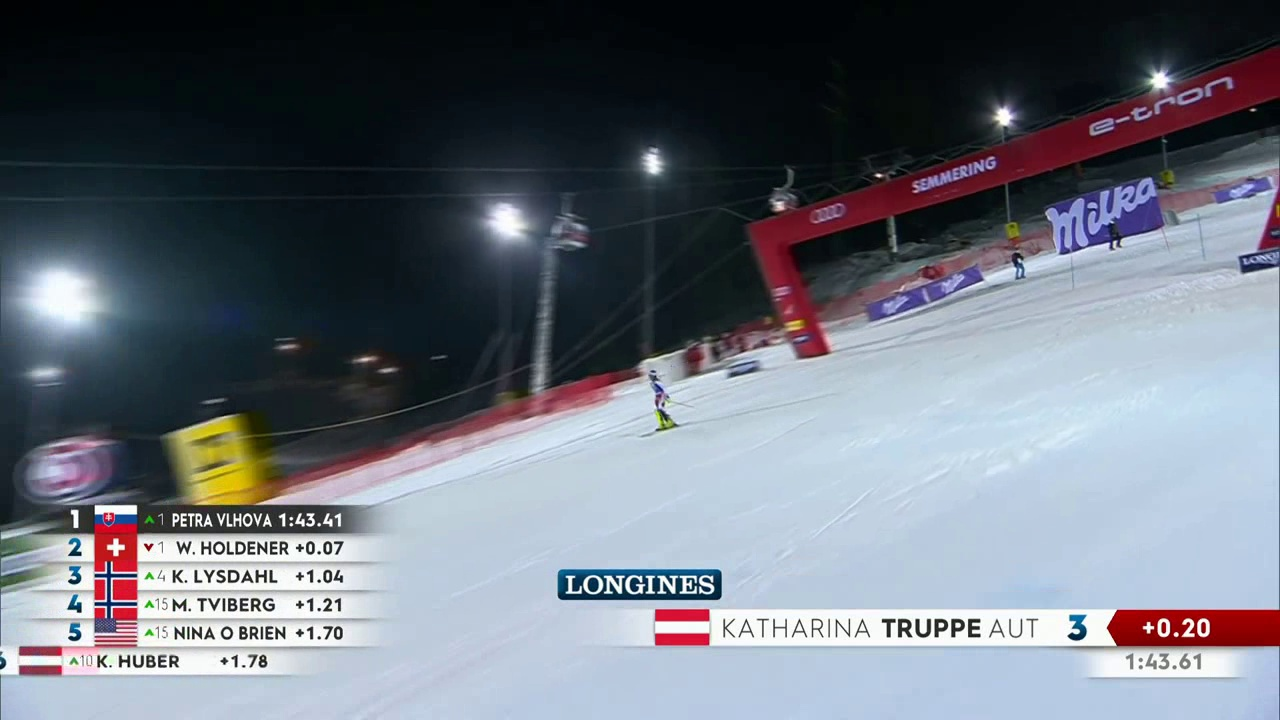audi: (807, 199, 850, 227)
longines: (544, 567, 730, 604), (1238, 247, 1279, 276)
